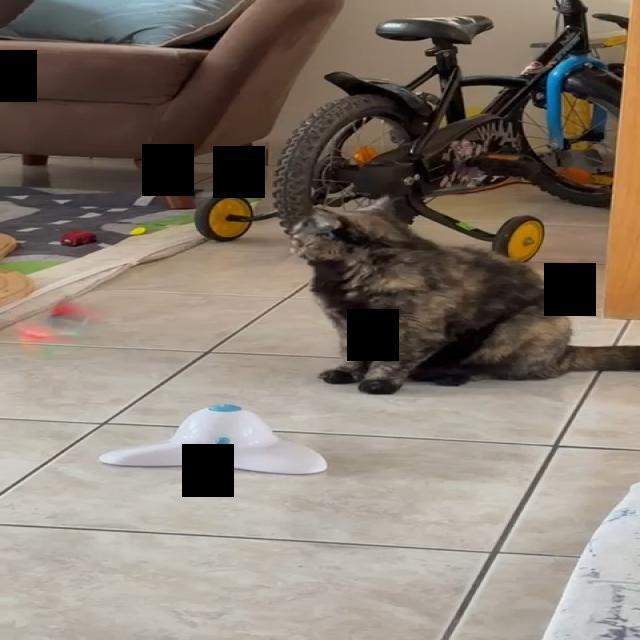authorized: (282, 205, 638, 395)
